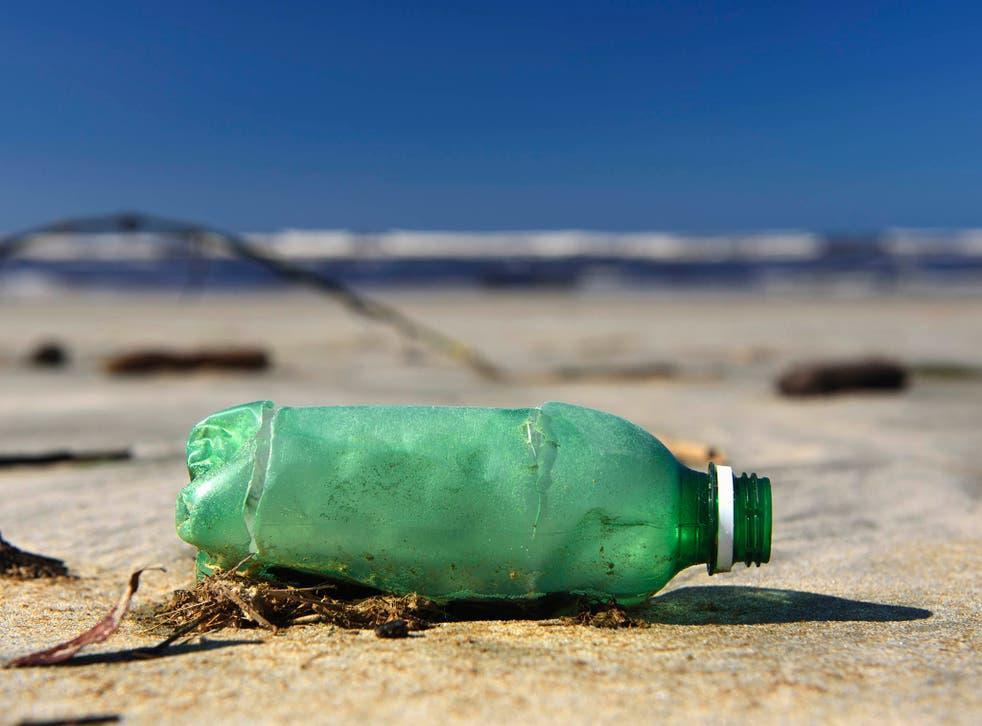bottle: (177, 344, 794, 676)
